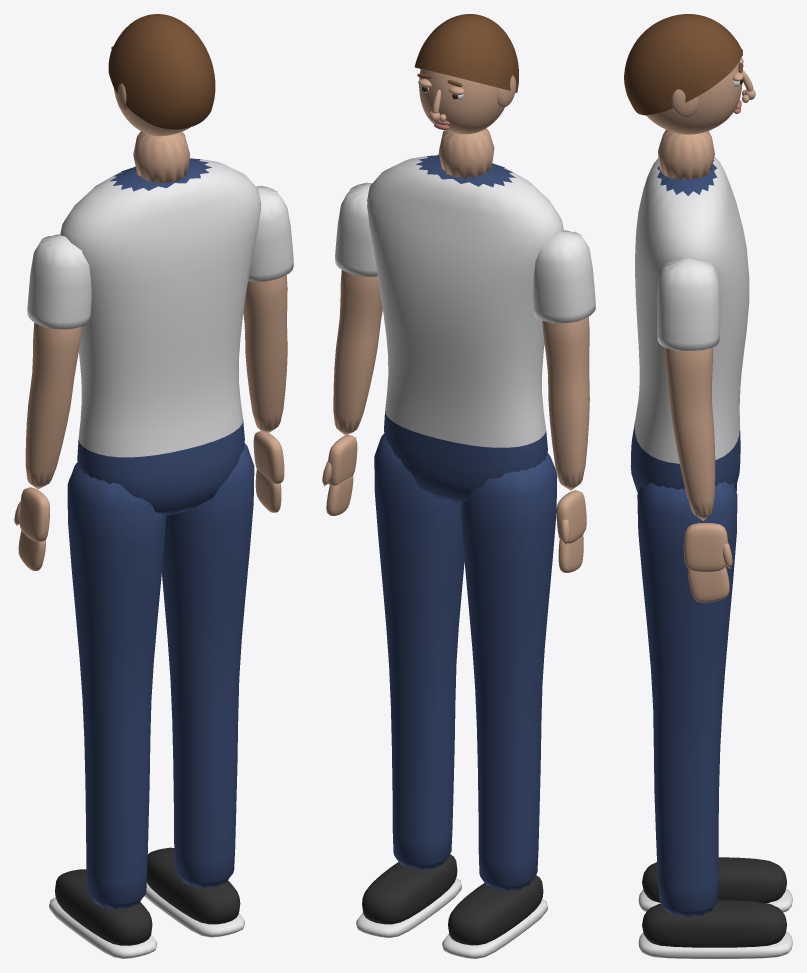
Rendered from driver.glb.
3 renders of one model, left to right at view 1: azimuth 30°, elevation 25°; view 2: azimuth 150°, elevation 25°; view 3: azimuth 270°, elevation 25°, orthographic. The views are drawn at different scales.
Parts seen in each view (by area): view 1: body.003, leg_r, leg_l, arm_r, arm_l; view 2: body.003, leg_r, leg_l, arm_r, arm_l; view 3: body.003, leg_l, arm_l, leg_r.
Boxes of the visible parts, left/top/right/bottom form: body.003: left=60, top=14, right=261, bottom=515; leg_r: left=49, top=462, right=165, bottom=958; leg_l: left=144, top=443, right=254, bottom=937; arm_r: left=14, top=234, right=91, bottom=570; arm_l: left=243, top=185, right=293, bottom=512; body.003: left=367, top=14, right=563, bottom=503; leg_r: left=442, top=453, right=557, bottom=958; leg_l: left=356, top=433, right=464, bottom=937; arm_r: left=533, top=230, right=595, bottom=572; arm_l: left=322, top=182, right=382, bottom=515; body.003: left=624, top=14, right=755, bottom=492; leg_l: left=637, top=481, right=792, bottom=958; arm_l: left=657, top=258, right=732, bottom=602; leg_r: left=638, top=484, right=792, bottom=912.
Size of the model in its own units: 0.5132 by 1.75 by 0.2936.
